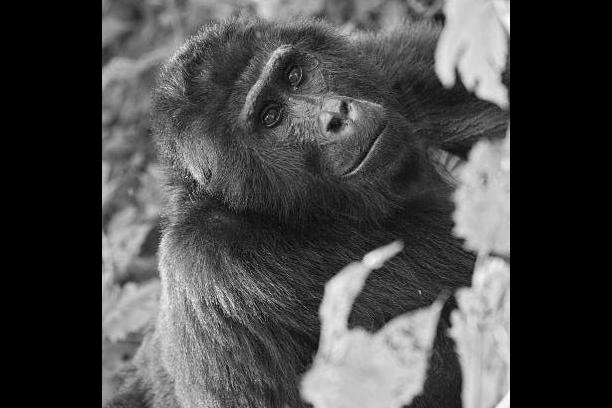goriile_montagne: (102, 21, 477, 408)
